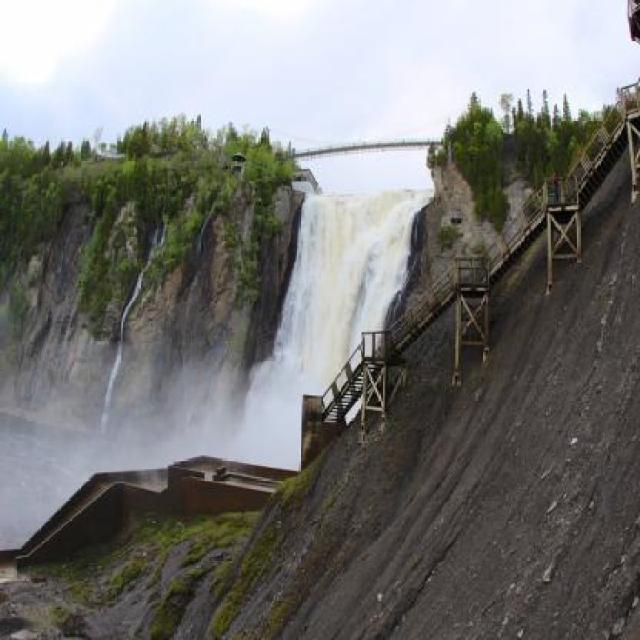stair: (386, 108, 639, 352), (26, 468, 109, 550), (322, 352, 384, 422)
